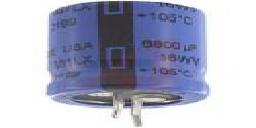Electrolytic-capacitor: (45, 1, 211, 128)
